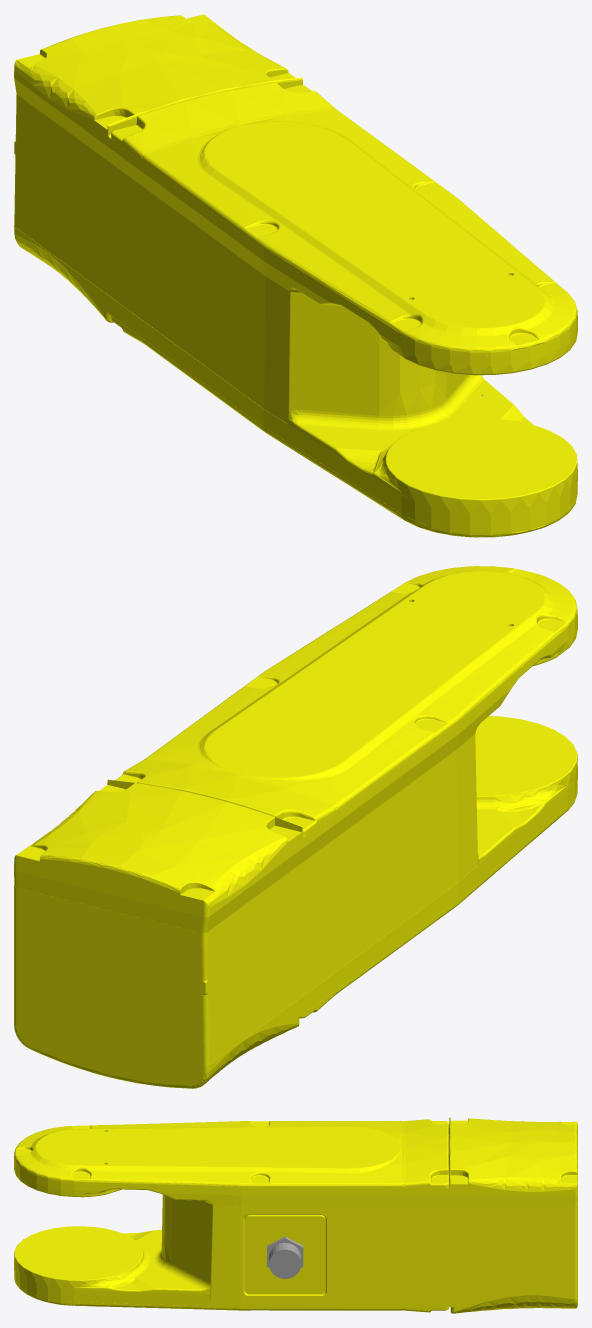
3 views of the same model, one above another, from view 1: azimuth 30°, elevation 25°; view 2: azimuth 150°, elevation 25°; view 3: azimuth 270°, elevation 25° (orthographic). The views are drawn at different scales.
Visible parts, largest first — view 1: node; view 2: node; view 3: node.
Boxes of the visible parts, x1,y1,x2,y2 form: node: (14,14,577,537); node: (14,566,577,1088); node: (14,1117,577,1313).
Bounding box in the file's own units: 114 × 105 × 373.
